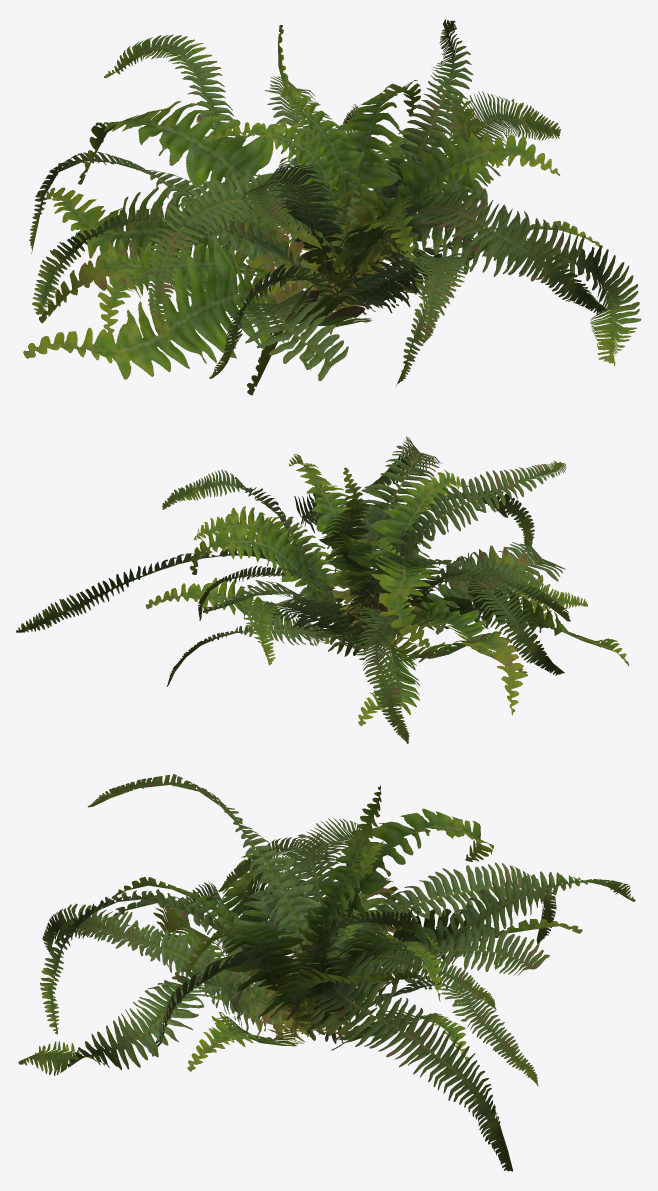
The model's file is fern.glb.
3 views of the same model, one above another, from view 1: azimuth 30°, elevation 25°; view 2: azimuth 150°, elevation 25°; view 3: azimuth 270°, elevation 25° (orthographic). The views are drawn at different scales.
Visible parts, largest first — view 1: fern_02_c, fern_02_a, fern_02_d; view 2: fern_02_c, fern_02_d, fern_02_a; view 3: fern_02_c, fern_02_a, fern_02_d.
Boxes of the visible parts, x1=… form: fern_02_c: x1=23, y1=25, x2=641, y2=395; fern_02_a: x1=97, y1=19, x2=585, y2=344; fern_02_d: x1=46, y1=85, x2=602, y2=378; fern_02_c: x1=16, y1=436, x2=629, y2=743; fern_02_d: x1=193, y1=470, x2=587, y2=726; fern_02_a: x1=162, y1=469, x2=527, y2=686; fern_02_c: x1=18, y1=774, x2=635, y2=1171; fern_02_a: x1=56, y1=841, x2=545, y2=1084; fern_02_d: x1=111, y1=833, x2=582, y2=1071.
Bounding box in the file's own units: 0.8743 × 0.349 × 0.7652.
1 material, 1 textured.
